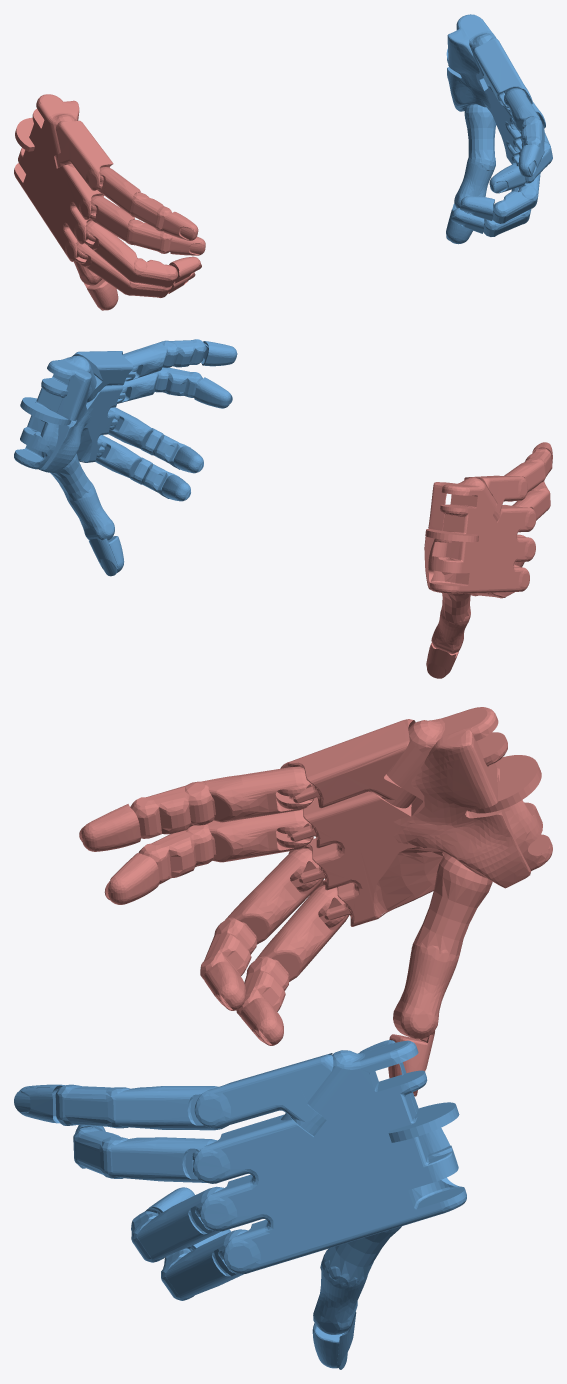
File: video_game_console_pc.glb
The picture shows the model from 3 angles, top to bottom: view 1: azimuth 30°, elevation 25°; view 2: azimuth 150°, elevation 25°; view 3: azimuth 270°, elevation 25°; orthographic projection. The views are drawn at different scales.
Visible parts, largest first — view 1: left_shadow_hand, right_shadow_hand; view 2: right_shadow_hand, left_shadow_hand; view 3: left_shadow_hand, right_shadow_hand.
Boxes of the visible parts, x1,y1,x2,y2 form: left_shadow_hand: [14, 94, 205, 310]; right_shadow_hand: [446, 14, 552, 244]; right_shadow_hand: [14, 339, 237, 576]; left_shadow_hand: [424, 442, 552, 678]; left_shadow_hand: [79, 707, 552, 1096]; right_shadow_hand: [14, 1040, 466, 1369].
Bounding box in the file's own units: 0.4027 × 0.1767 × 0.2445.
